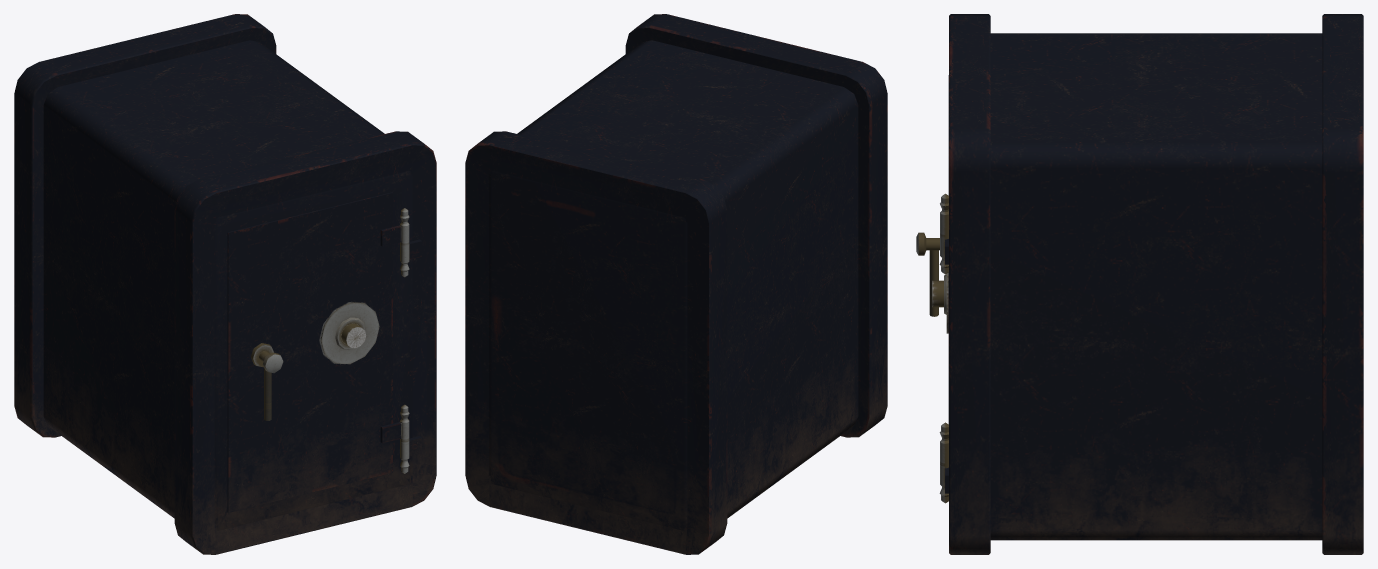
Rendered from low_poly_safe.glb.
3 renders of one model, left to right at view 1: azimuth 30°, elevation 25°; view 2: azimuth 150°, elevation 25°; view 3: azimuth 270°, elevation 25°, orthographic. The views are drawn at different scales.
Visible parts, largest first — view 1: LP_TRIS, Carcass, Door, Lock_Base1, Hinge_Base, Hinge, Stuff; view 2: LP_TRIS, Carcass; view 3: LP_TRIS, Carcass, Hinge_Base.
Part boxes in pixels (x1,y1,x2,y2): LP_TRIS: [43, 40, 412, 530]; Carcass: [14, 14, 436, 554]; Door: [227, 192, 392, 512]; Lock_Base1: [320, 302, 379, 364]; Hinge_Base: [400, 208, 421, 473]; Hinge: [380, 225, 401, 443]; Stuff: [251, 343, 283, 373]; LP_TRIS: [489, 40, 858, 530]; Carcass: [465, 14, 887, 554]; LP_TRIS: [990, 33, 1322, 540]; Carcass: [949, 14, 1363, 554]; Hinge_Base: [939, 193, 948, 503].
Size of the model in its own units: 3.65 by 5.16 by 4.94.
1 material, 1 textured.
